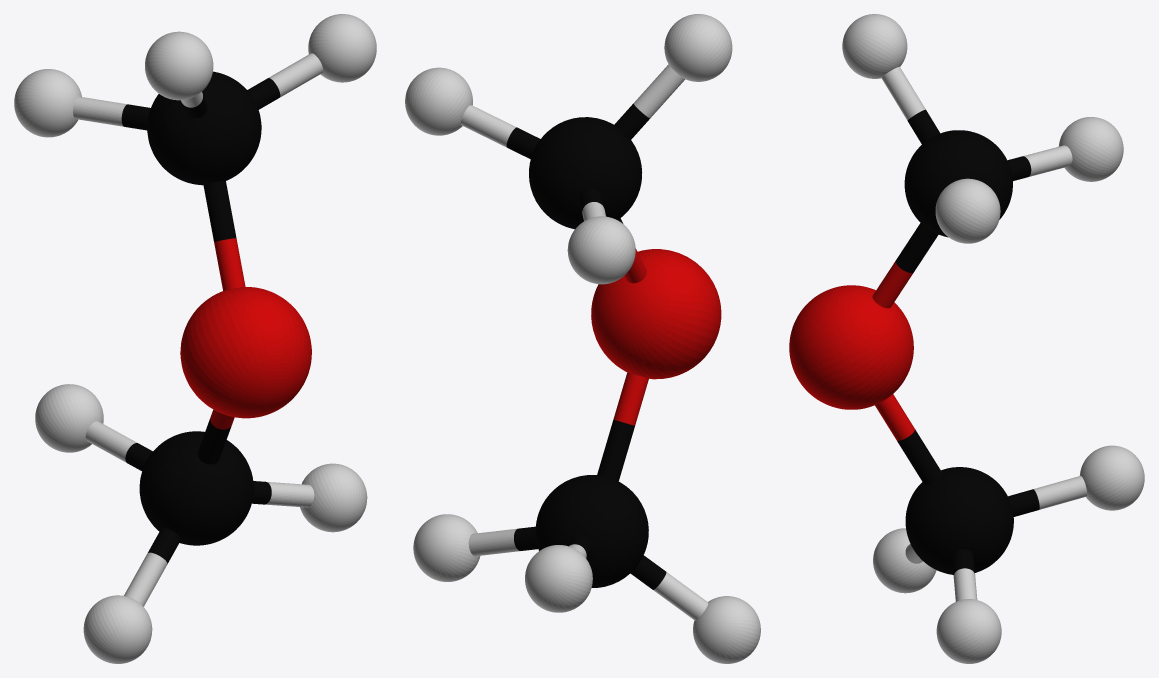
File: Metoximetano.glb
3 renders of one model, left to right at view 1: azimuth 30°, elevation 25°; view 2: azimuth 150°, elevation 25°; view 3: azimuth 270°, elevation 25°, orthographic. The views are drawn at different scales.
Visible parts, largest first — view 1: Esfera_UV, Esfera_UV.002, Esfera_UV.016, Esfera_UV.004, Esfera_UV.013, Esfera_UV.015, Esfera_UV.014, Esfera_UV.003, Esfera_UV.005, Cilindro.001_Cilindro.007, Cilindro.004_Cilindro.002, Cilindro.001_Cilindro.000 (+5 smaller); view 2: Esfera_UV, Esfera_UV.016, Esfera_UV.002, Esfera_UV.014, Esfera_UV.003, Esfera_UV.013, Esfera_UV.004, Esfera_UV.015, Esfera_UV.005, Cilindro.002_Cilindro.000, Cilindro.001_Cilindro.007, Cilindro.004_Cilindro.002 (+4 smaller); view 3: Esfera_UV, Esfera_UV.002, Esfera_UV.016, Esfera_UV.015, Esfera_UV.005, Esfera_UV.013, Esfera_UV.003, Esfera_UV.014, Esfera_UV.004, Cilindro.002_Cilindro.000, Cilindro.002_Cilindro.008, Cilindro.001_Cilindro.000 (+5 smaller).
Boxes of the visible parts, x1,y1,x2,y2 form: Esfera_UV: (180, 287, 311, 418); Esfera_UV.002: (139, 431, 253, 545); Esfera_UV.016: (147, 71, 261, 185); Esfera_UV.004: (83, 595, 152, 663); Esfera_UV.013: (145, 31, 213, 100); Esfera_UV.015: (308, 14, 376, 82); Esfera_UV.014: (14, 69, 81, 137); Esfera_UV.003: (35, 384, 103, 452); Esfera_UV.005: (300, 463, 367, 532); Cilindro.001_Cilindro.007: (124, 528, 180, 606); Cilindro.004_Cilindro.002: (247, 53, 323, 109); Cilindro.001_Cilindro.000: (73, 96, 150, 130); Esfera_UV: (591, 249, 721, 379); Esfera_UV.016: (529, 117, 642, 229); Esfera_UV.002: (535, 475, 648, 587); Esfera_UV.014: (567, 216, 635, 284); Esfera_UV.003: (525, 545, 592, 612); Esfera_UV.013: (664, 14, 732, 81); Esfera_UV.004: (693, 596, 760, 663); Esfera_UV.015: (405, 67, 472, 135); Esfera_UV.005: (413, 514, 480, 581); Cilindro.002_Cilindro.000: (614, 64, 684, 140); Cilindro.001_Cilindro.007: (630, 555, 708, 620); Cilindro.004_Cilindro.002: (461, 105, 540, 159); Esfera_UV: (789, 285, 913, 409); Esfera_UV.002: (905, 467, 1013, 574); Esfera_UV.016: (904, 130, 1012, 237); Esfera_UV.015: (935, 178, 1000, 243); Esfera_UV.005: (936, 599, 1001, 663); Esfera_UV.013: (842, 14, 907, 78); Esfera_UV.003: (1079, 445, 1144, 510); Esfera_UV.014: (1058, 117, 1123, 181); Esfera_UV.004: (873, 528, 936, 593); Cilindro.002_Cilindro.000: (881, 66, 940, 144); Cilindro.002_Cilindro.008: (1008, 476, 1087, 516); Cilindro.001_Cilindro.000: (1007, 145, 1072, 180).
Size of the model in its own units: 13.51 by 25.52 by 13.84.
